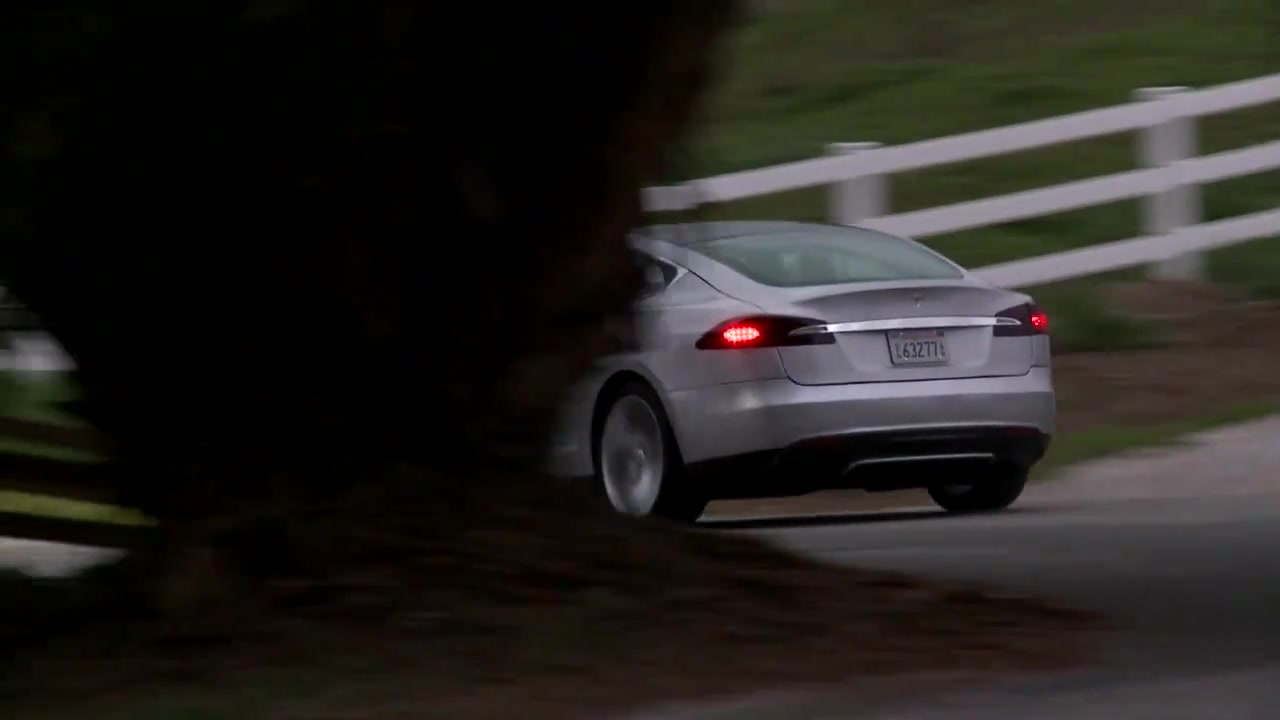car: (531, 220, 1058, 533)
